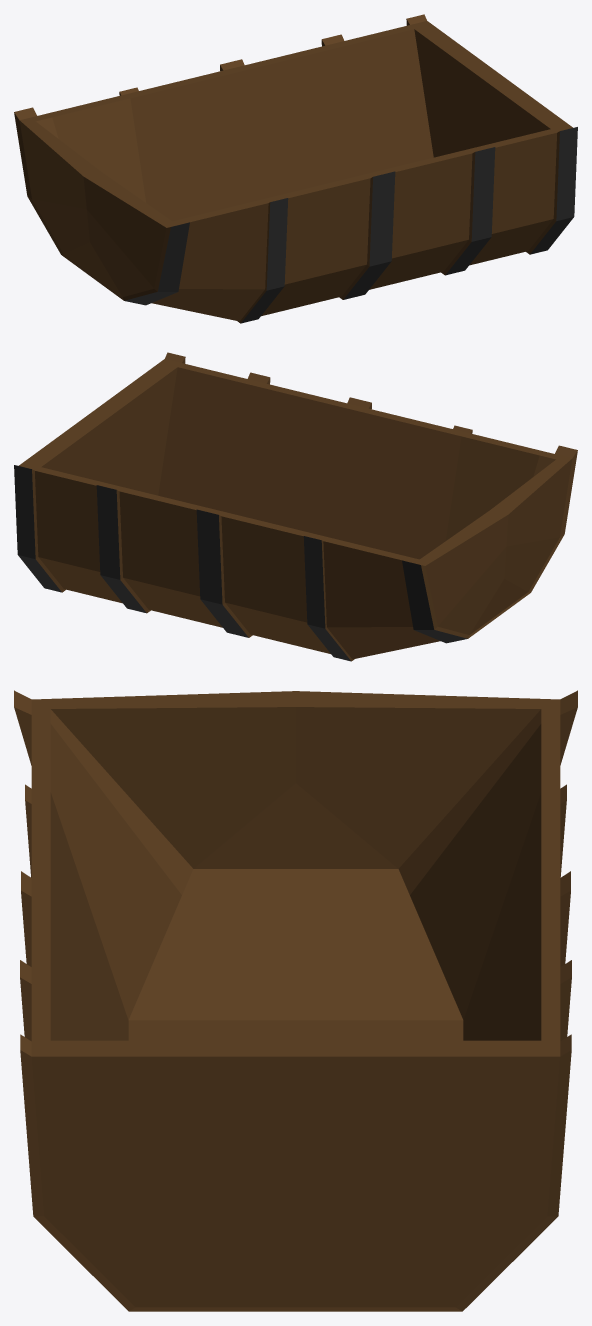
The model's file is Boat.fbx.
The picture shows the model from 3 angles, top to bottom: view 1: azimuth 30°, elevation 25°; view 2: azimuth 150°, elevation 25°; view 3: azimuth 270°, elevation 25°; orthographic projection. The views are drawn at different scales.
Parts seen in each view (by area): view 1: Boat; view 2: Boat; view 3: Boat.
Part boxes in pixels (bbox=[...]): Boat: bbox=[14, 14, 577, 323]; Boat: bbox=[14, 352, 577, 661]; Boat: bbox=[14, 690, 577, 1311].
Size of the model in its own units: 4.92 by 1.65 by 3.2.
Materials: 1 (1 with a texture image).
